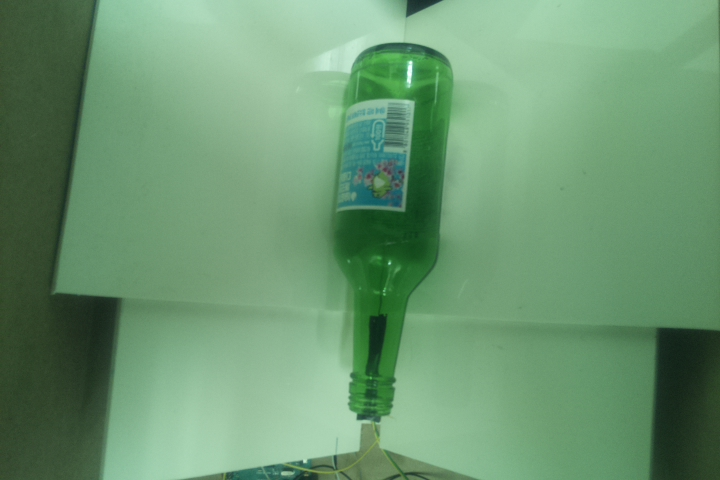soju: (331, 40, 455, 419)
